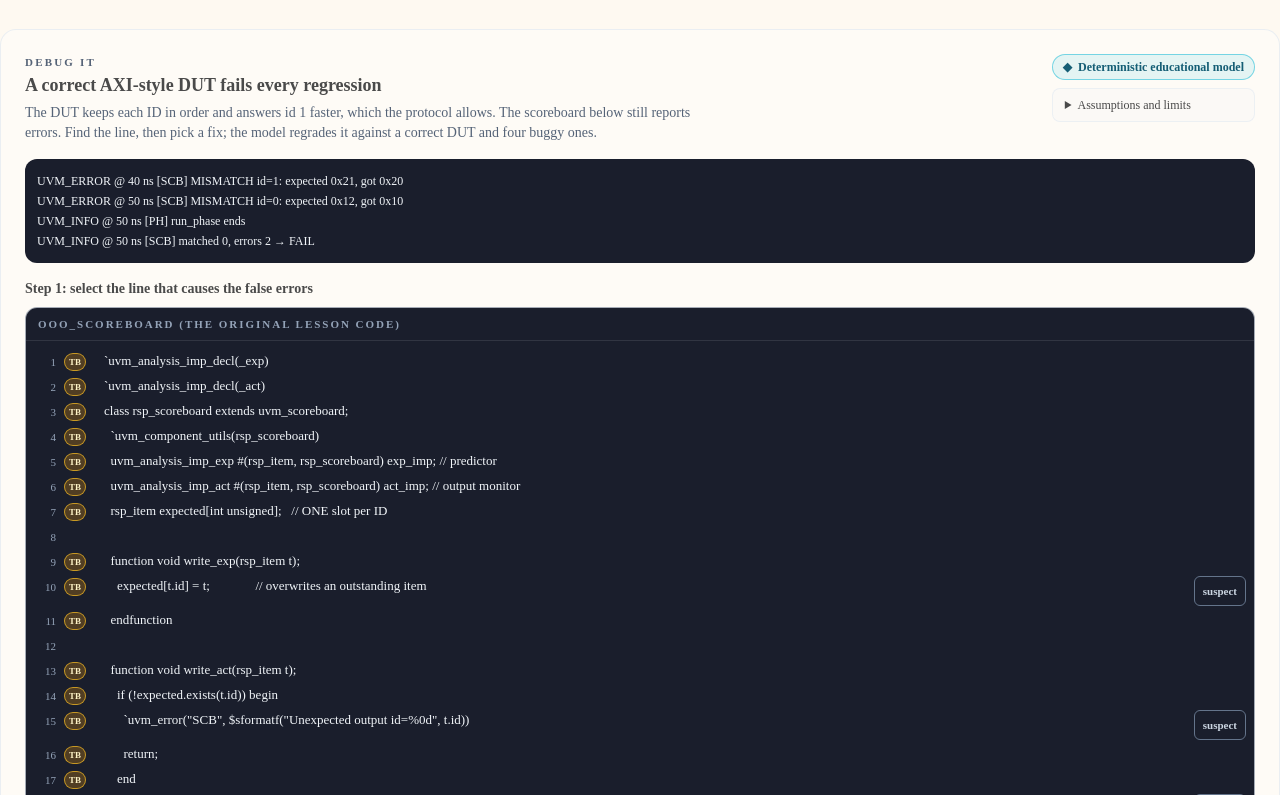
Scenario: ScoreboardMatchingVisualizer › debug mode: find the overwrite line, then the per-ID fix is accepted and the in-order one rejected
Click the button named "Suspect line: `uvm_error(\"SCB\", $sformatf(\"Unexpected".
click(1220, 725)  # box [1194,710,1246,740]
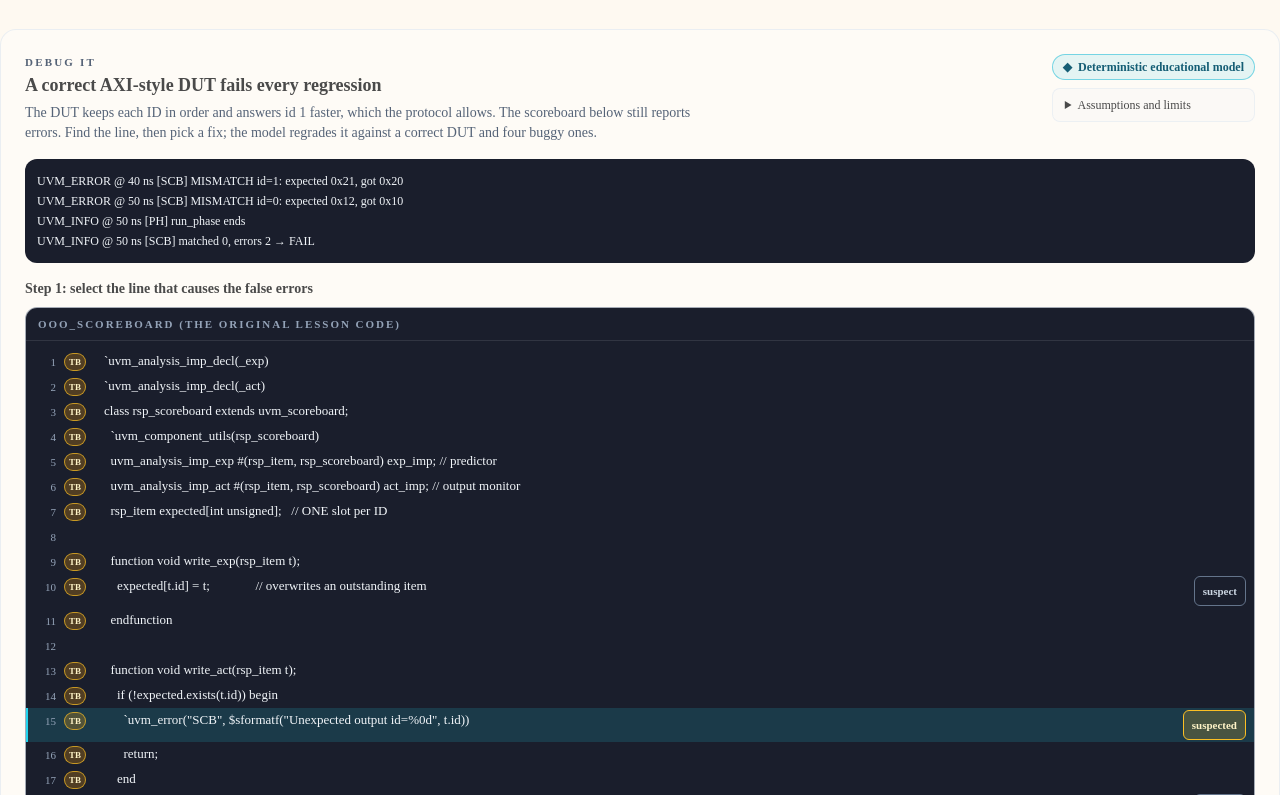
Click the button with aria-label "Suspect line: expected[t.id] = t;".
click(1220, 591)  # box [1194,576,1246,606]
(page scrolled)
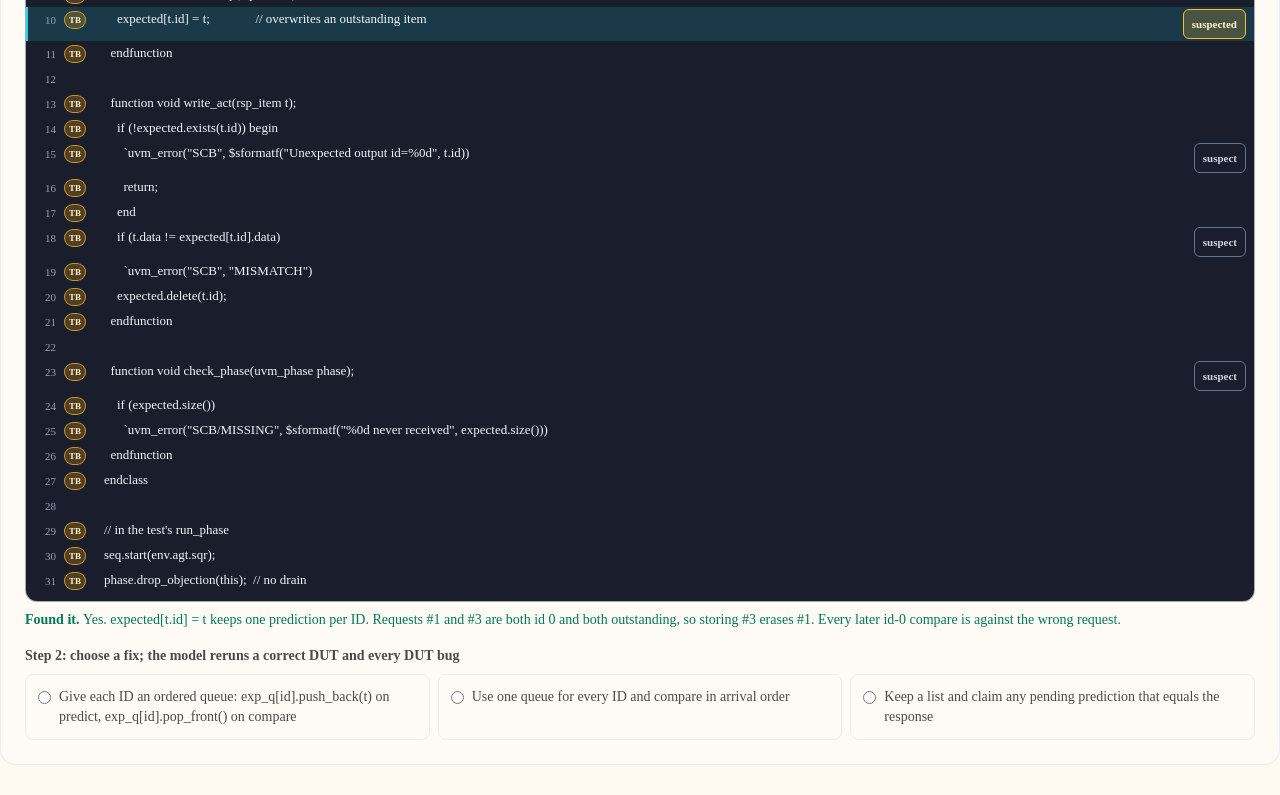
Check: the text "Found it." is shown, box [25,612,83,627]
Click the radio button labelled "Use one queue for every ID and compare in arrival order".
click(457, 698)  # box [451,691,464,704]
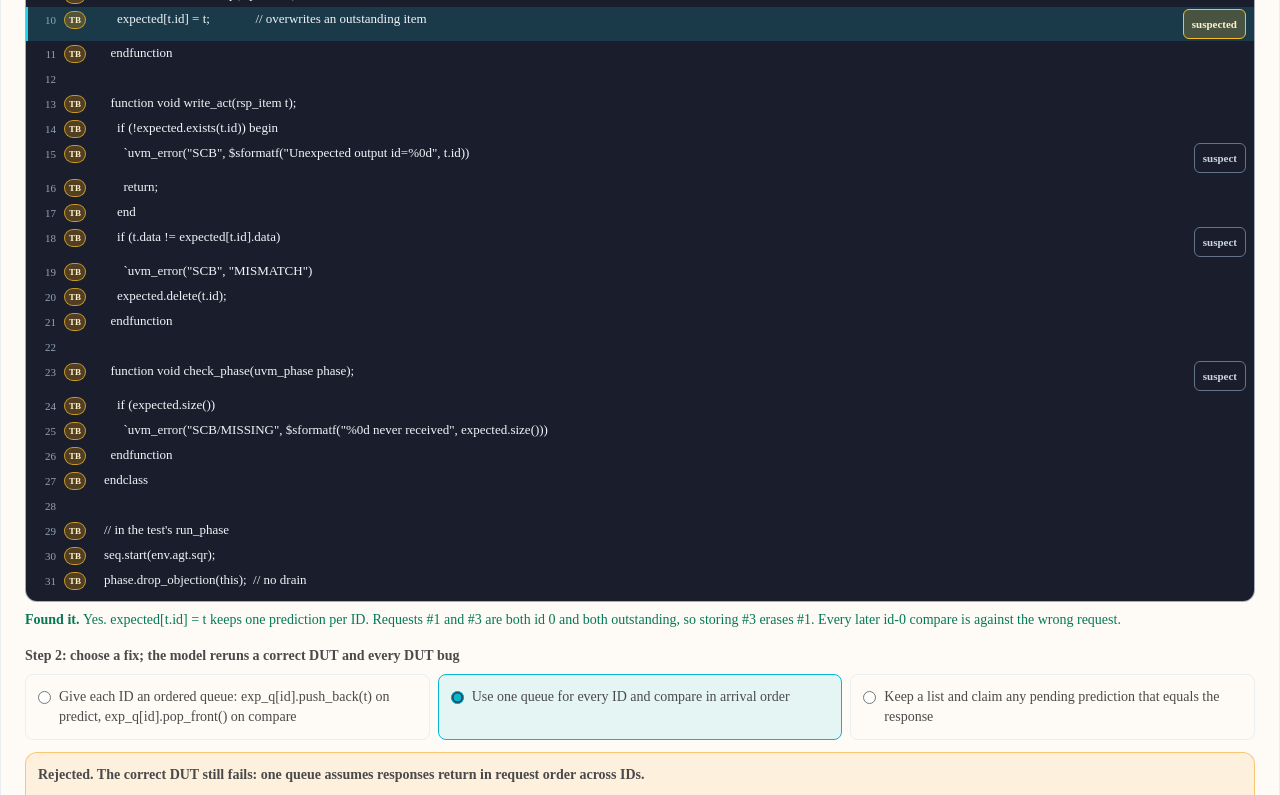
Check: the text "Rejected. The correct DUT still fails" is shown, box [38,767,644,782]
Click the radio button labelled "Give each ID an ordered queue".
click(44, 698)  # box [38,691,51,704]
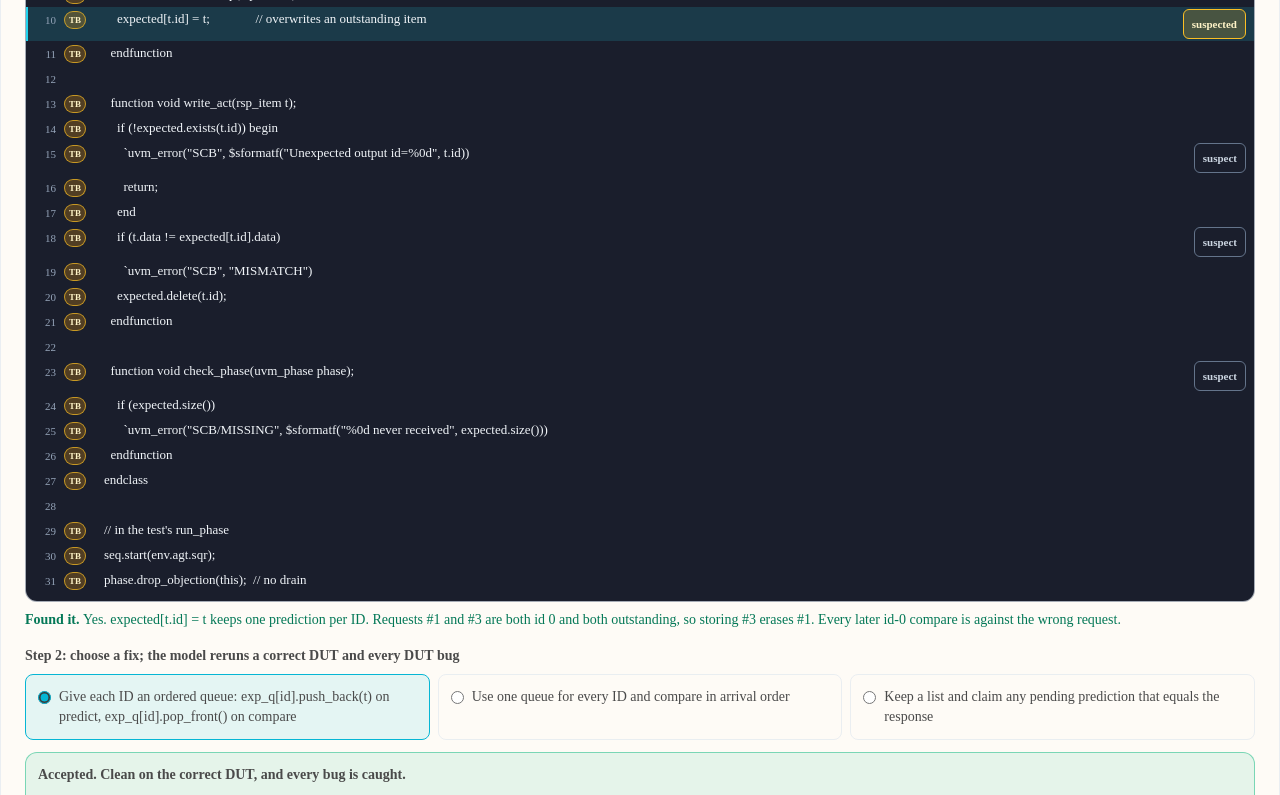
Check: the text "Accepted. Clean on the correct DUT, and every bug is caught." is shown, box [38,767,406,782]
